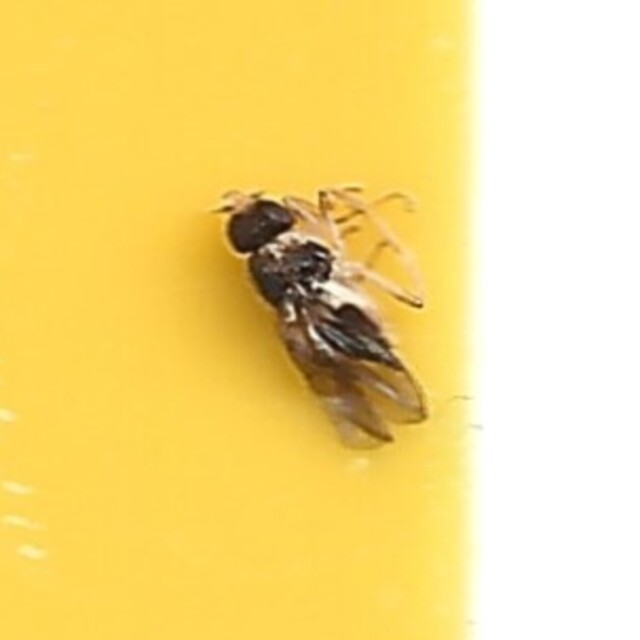Brachycera: (211, 188, 429, 452)
